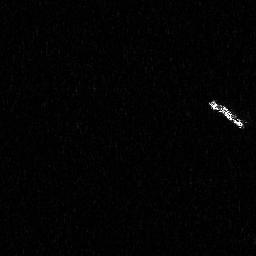ship: (206, 98, 248, 132)
